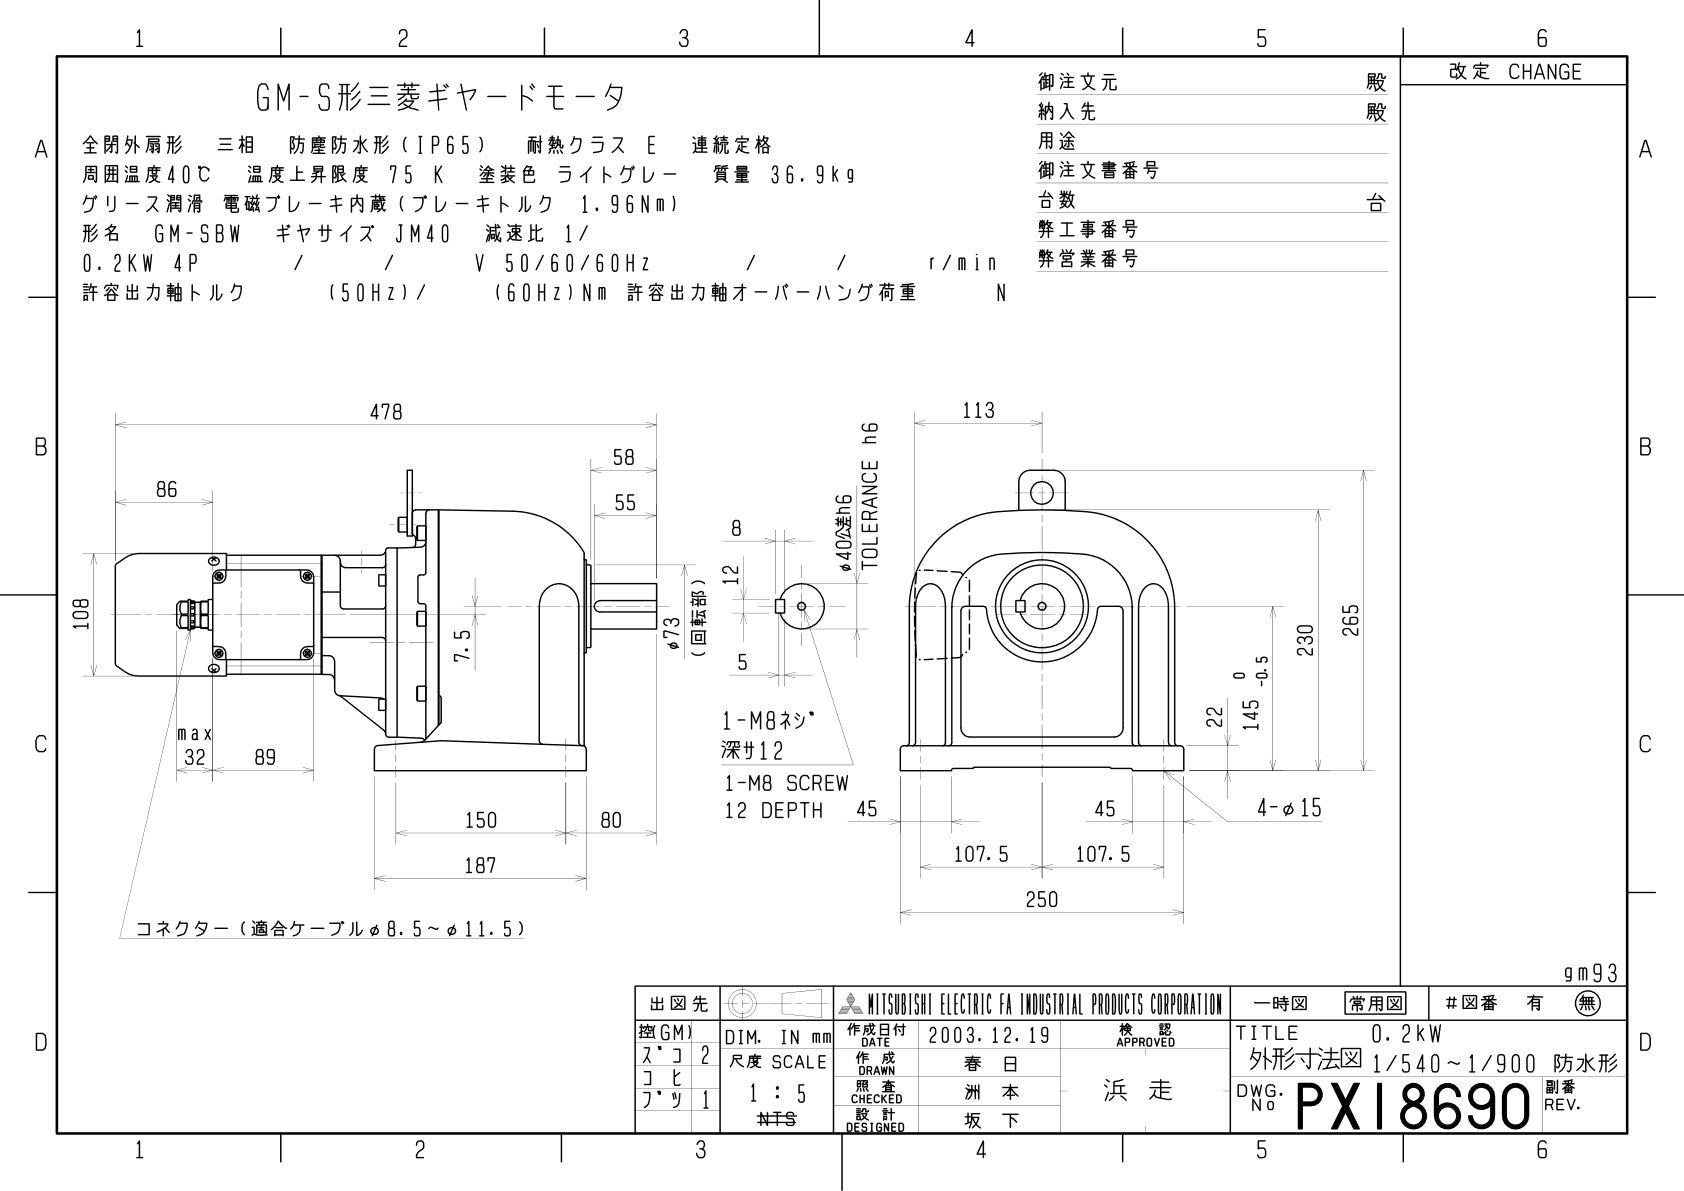GM_S_IP65＿三相_脚: (4, 18, 1680, 1179)
